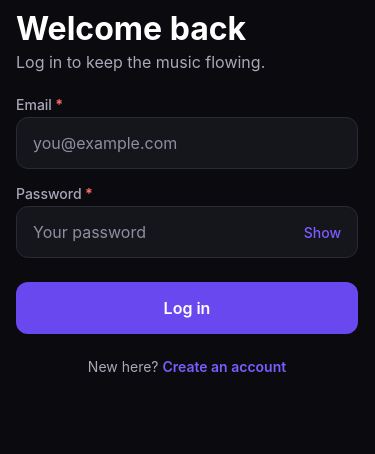
Test: LoginScreen › shows a server error banner on invalid credentials
Type "fan@example.com" into the field with test id "login-email".
click(187, 143); type("fan@example.com")  # box x1=33 y1=125 x2=341 y2=161
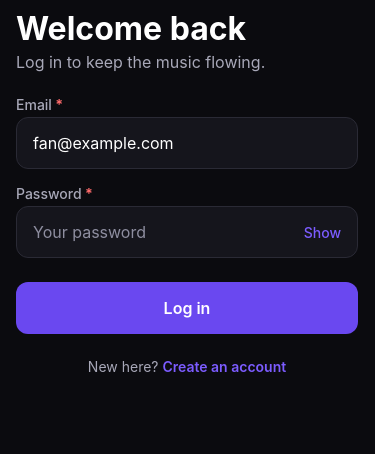
Type "wrong-password!" into the password field with test id "login-password".
click(164, 232); type("wrong-password!")  # box x1=33 y1=214 x2=296 y2=250
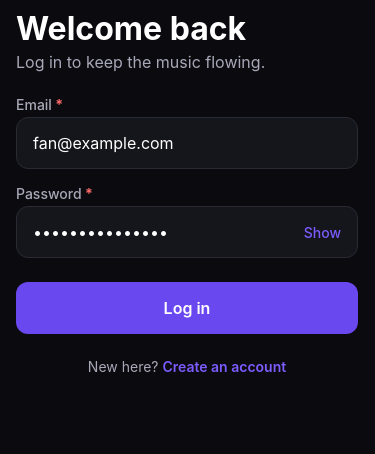
Click the button with test id "login-submit".
click(187, 308)  # box x1=16 y1=282 x2=358 y2=334
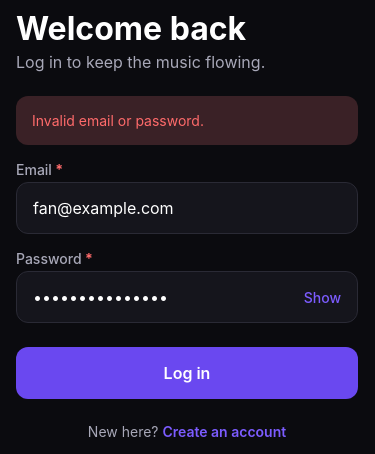
Expected: the message "Invalid email or password." is shown, x1=16 y1=96 x2=358 y2=145
Expected: the text "Invalid email or password." is shown, x1=32 y1=112 x2=204 y2=129
